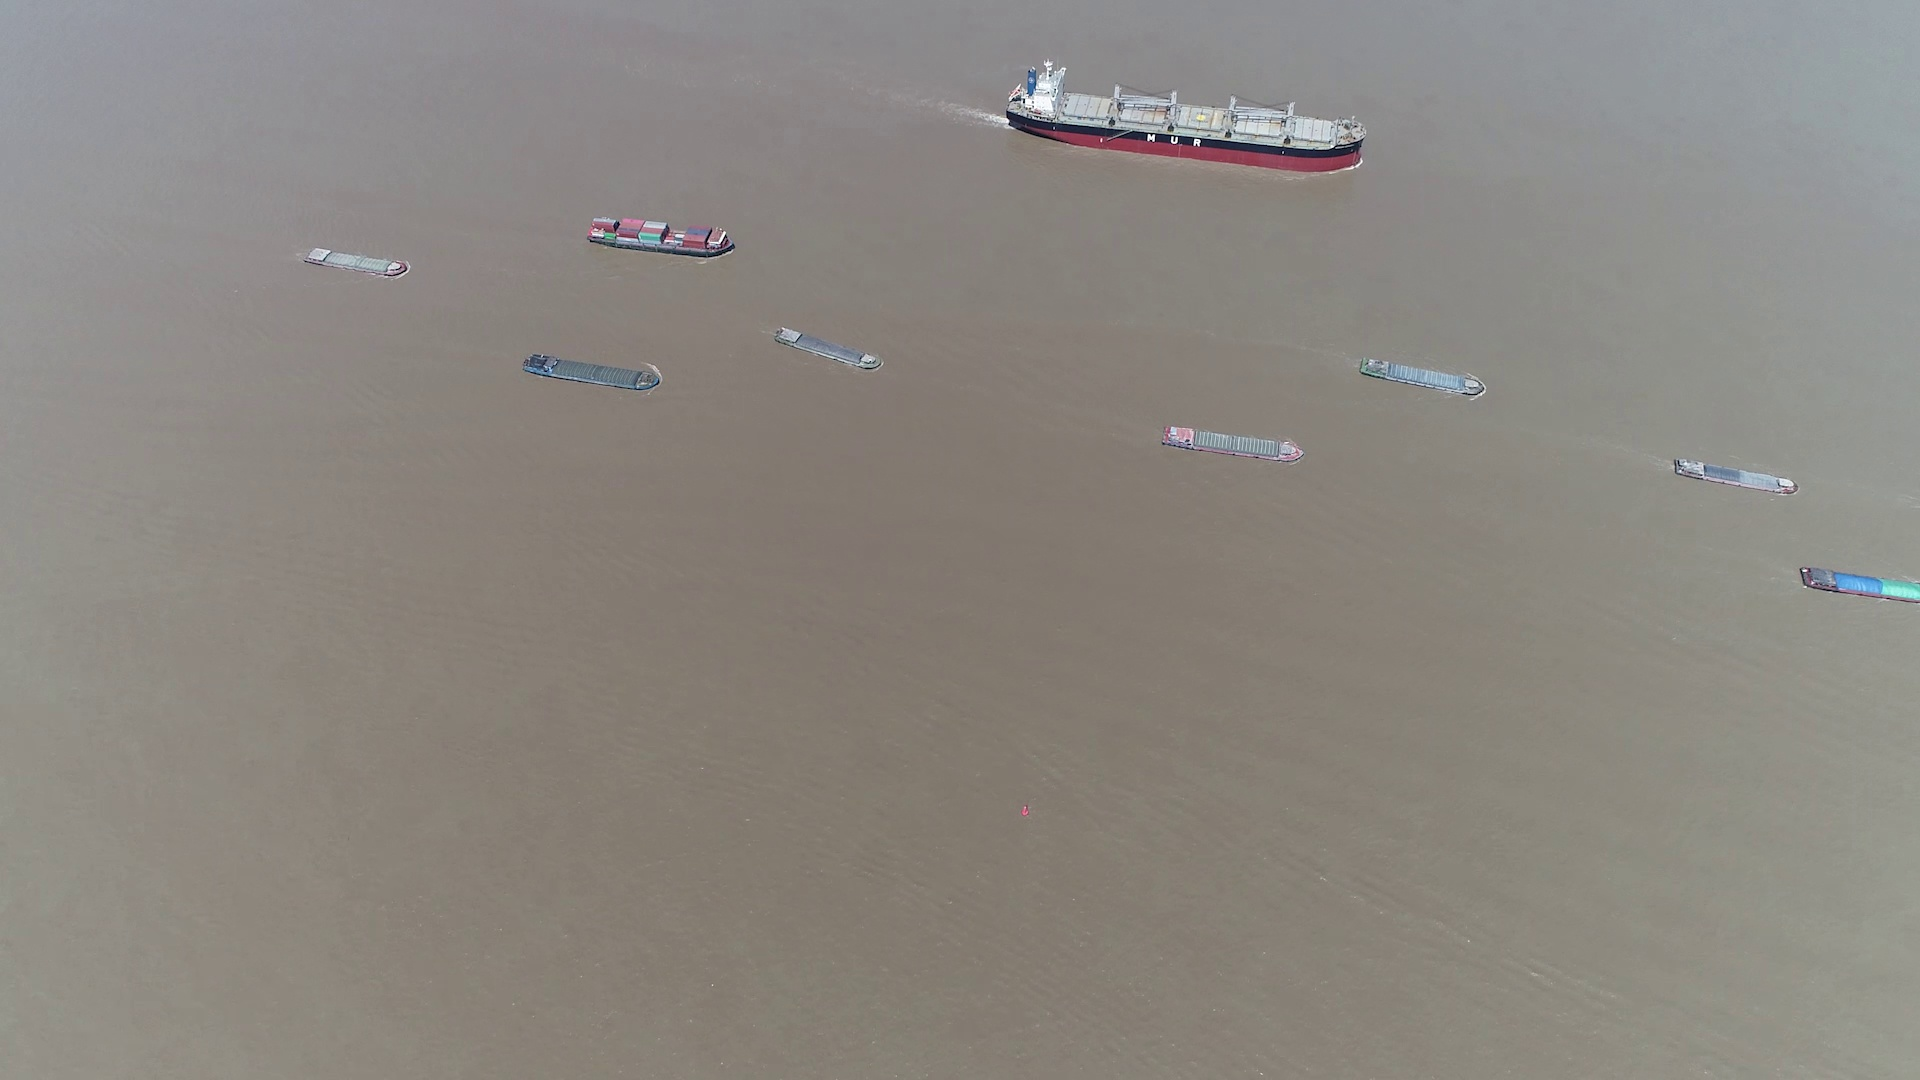ship: (1007, 62, 1364, 167), (585, 215, 737, 256), (1358, 356, 1485, 400), (524, 353, 661, 392), (1162, 425, 1302, 462), (771, 327, 884, 371), (1799, 564, 1920, 604), (1672, 458, 1797, 495), (303, 247, 409, 280)
